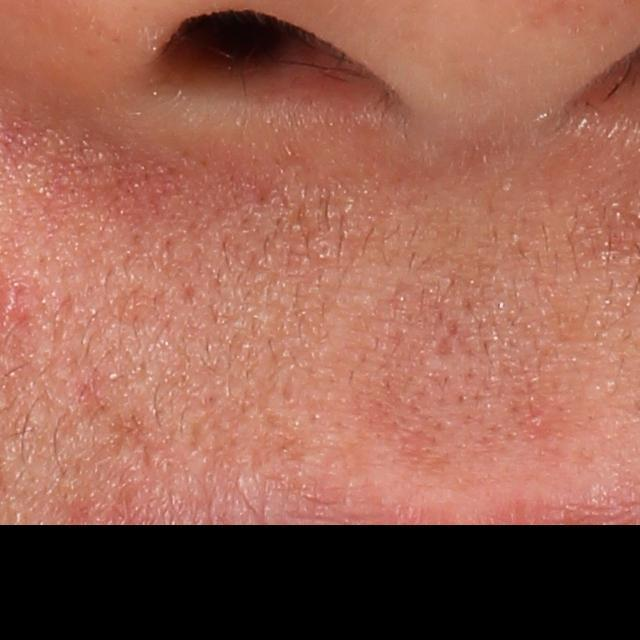atrophic_scar: (432, 333, 455, 361)
